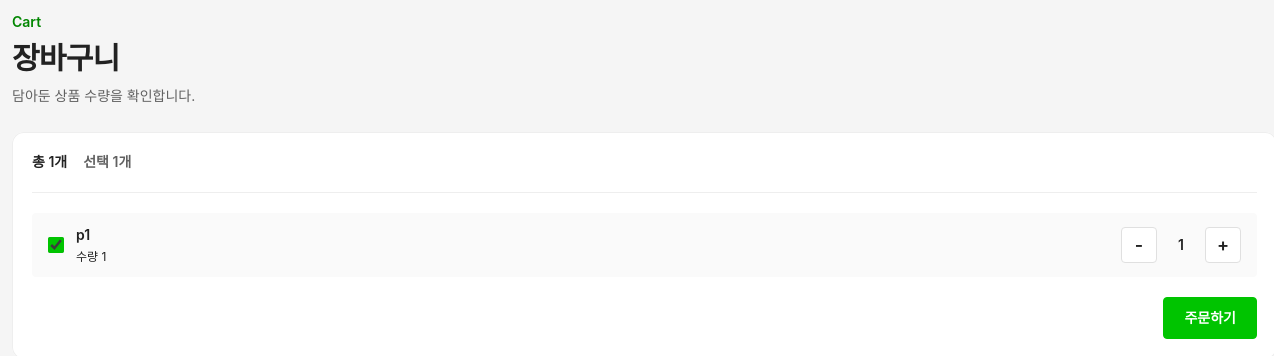
Test case: CartPage › 수량 버튼으로 상품 수량을 늘리고 줄인다
Click the button named "p1 수량 증가". click: (1223, 245)
box: x1=1205 y1=227 x2=1241 y2=263
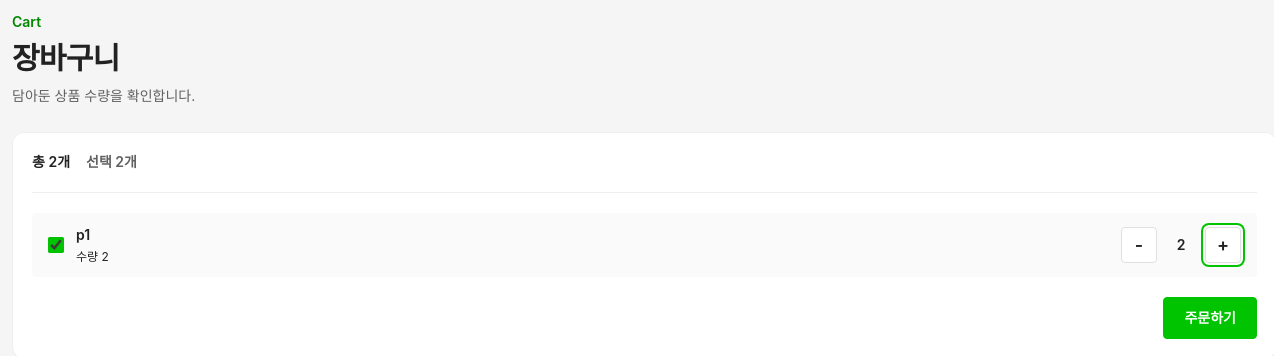
Expected: the text "총 2개" is shown, x1=32 y1=152 x2=70 y2=172
Expected: the list item "p1 수량 2" is shown, x1=32 y1=213 x2=1257 y2=277
Click the button named "p1 수량 감소". click: (1139, 245)
box: x1=1121 y1=227 x2=1157 y2=263
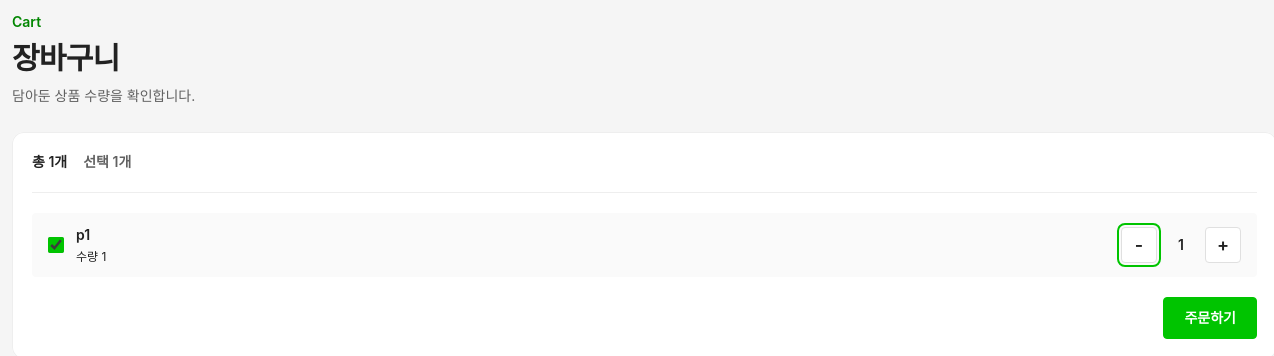
Click the button named "p1 수량 감소". click: (1139, 245)
box: x1=1121 y1=227 x2=1157 y2=263
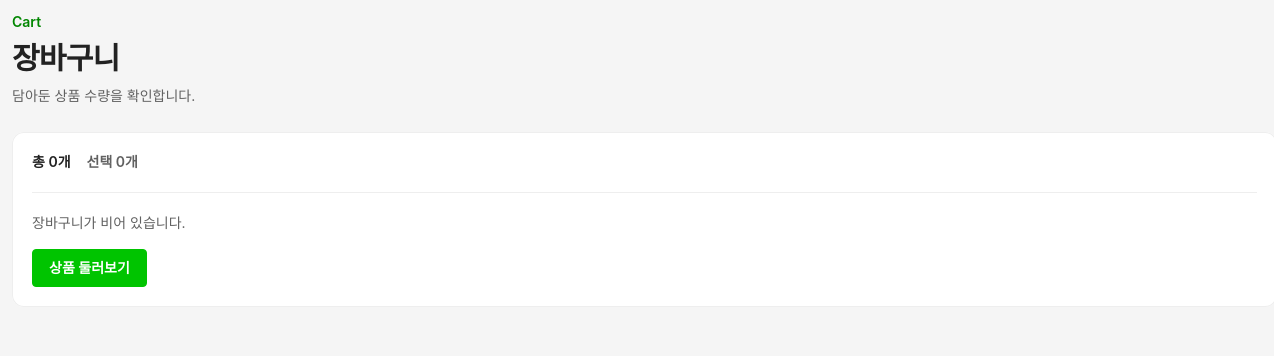
Expected: the text "장바구니가 비어 있습니다." is shown, x1=32 y1=214 x2=186 y2=231
Expected: the link "주문하기" is gone
